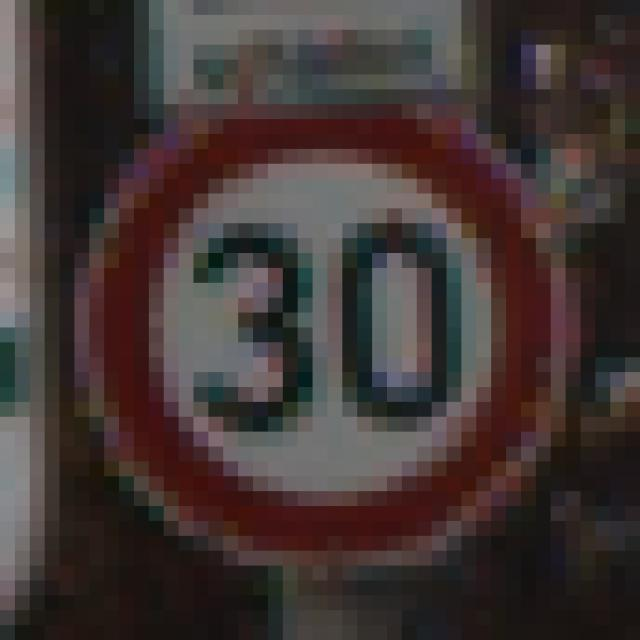Speed Limit -30-: (67, 67, 543, 543)
